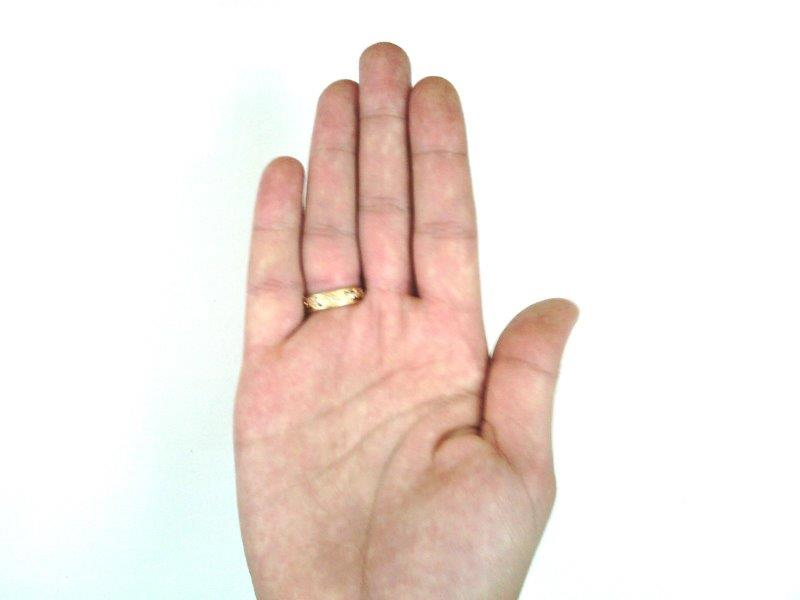hand: (233, 42, 579, 597)
